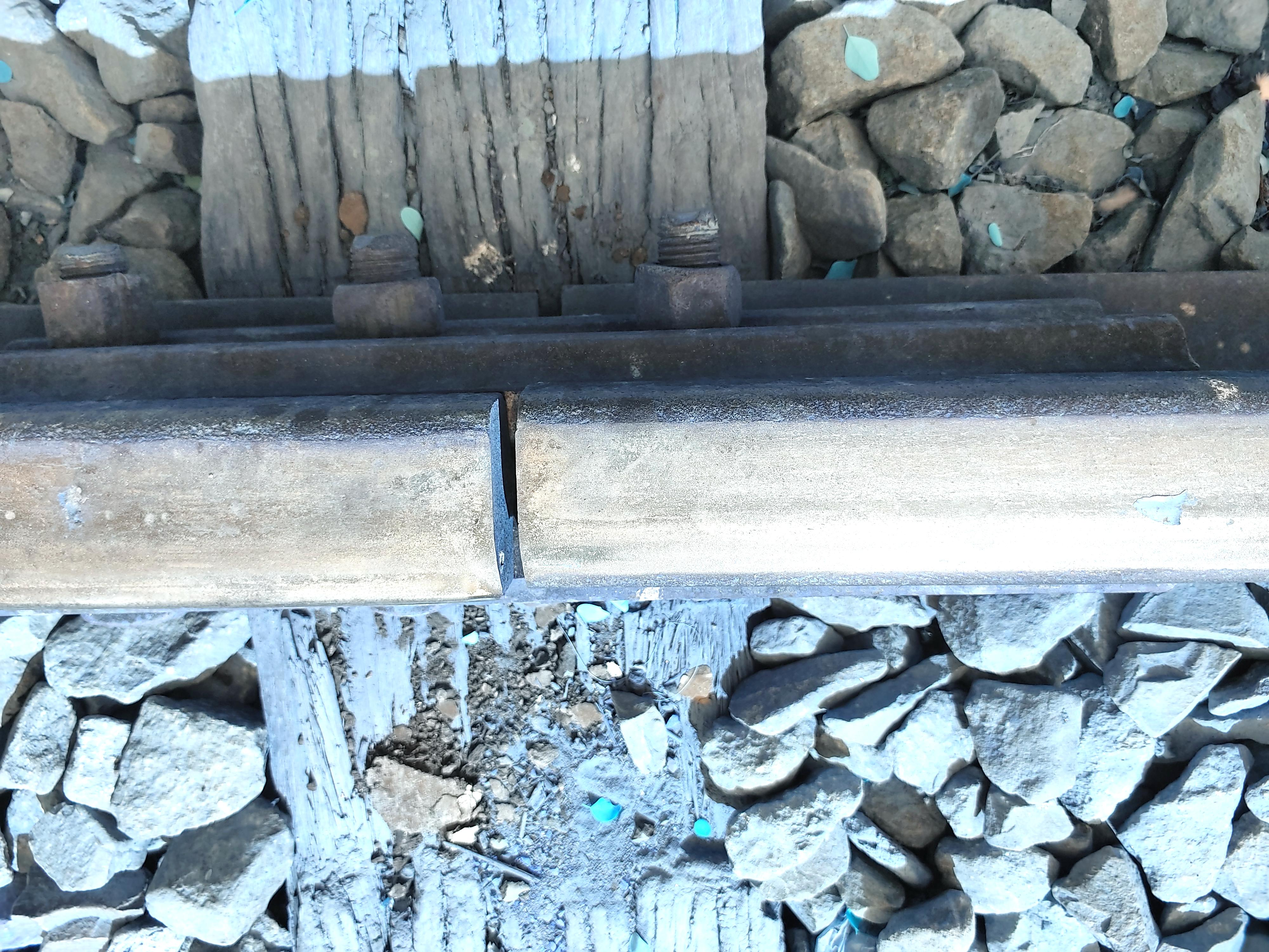duan lie: (453, 362, 569, 649)
